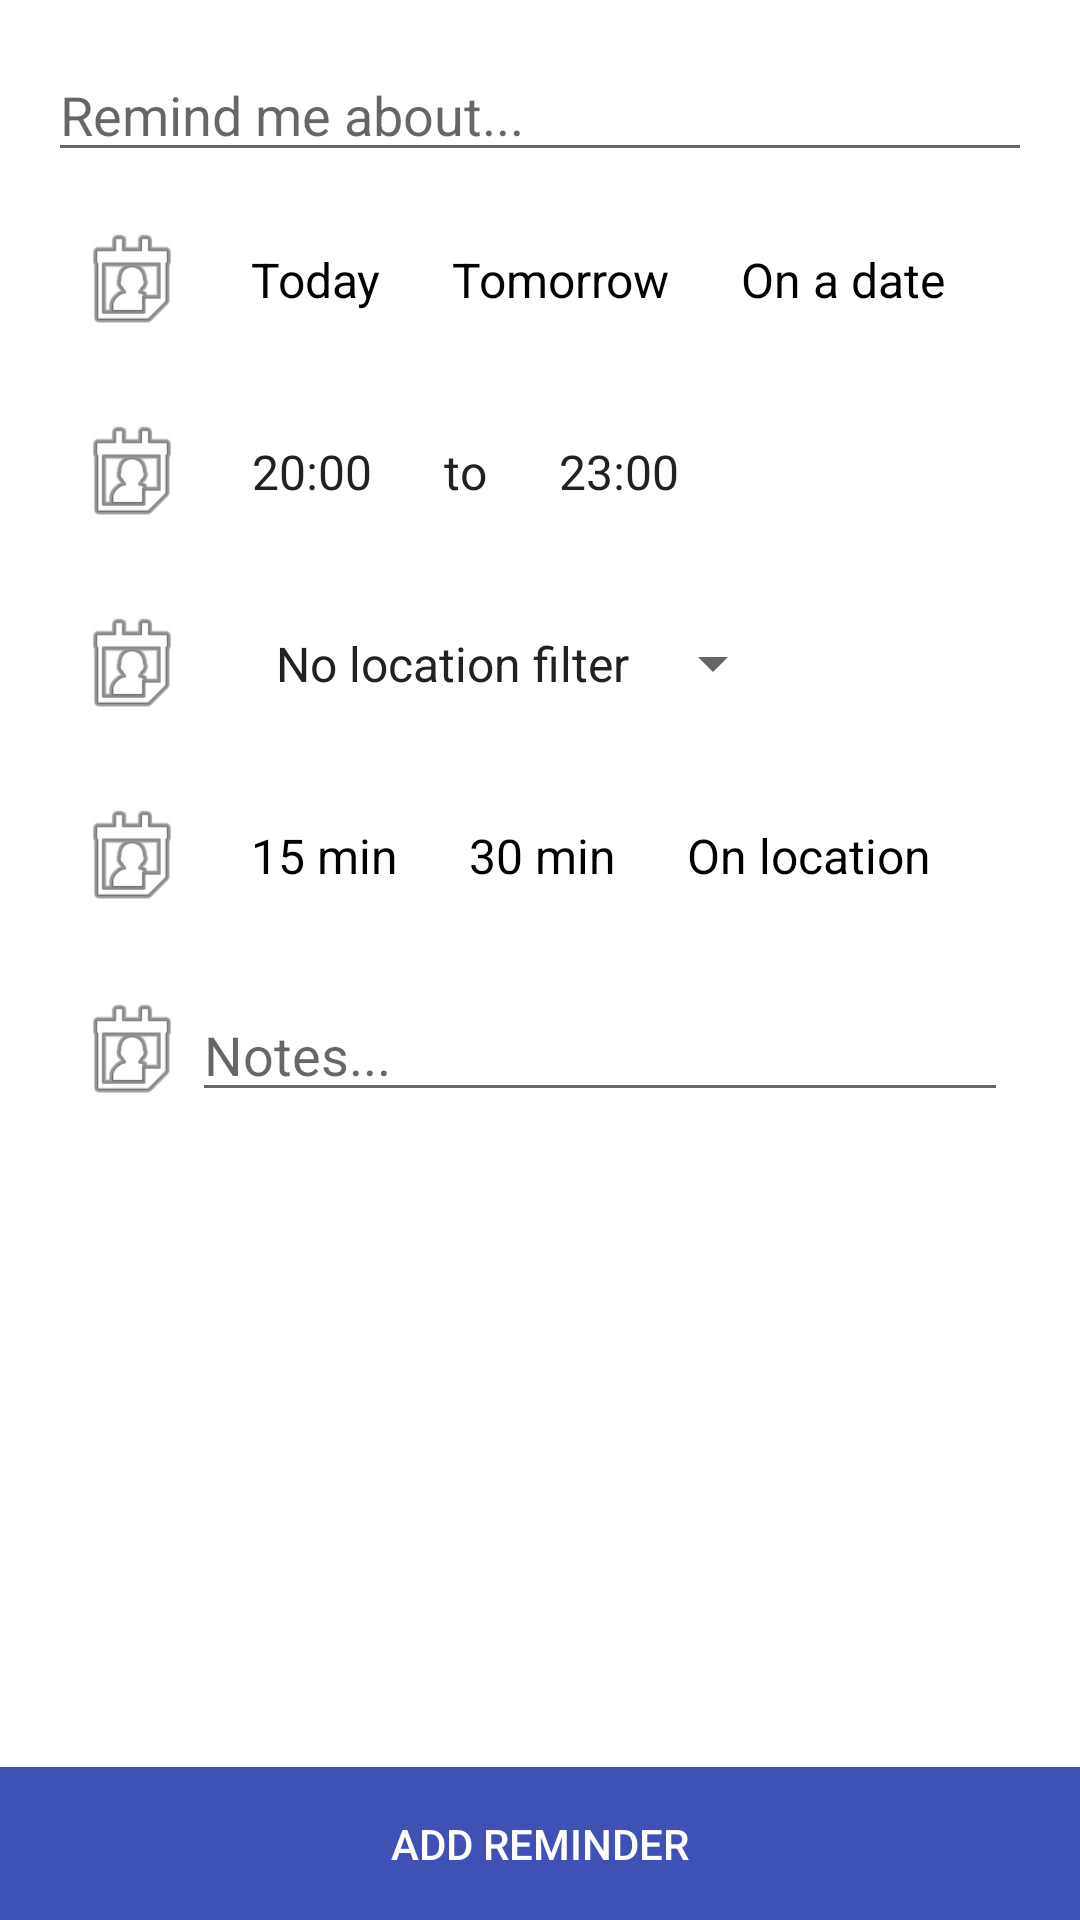

Named icons in this screenshot (1080×1920) and their centers, (x,y):
calendar: (132,279), (132,471), (132,663), (132,855), (132,1049)
